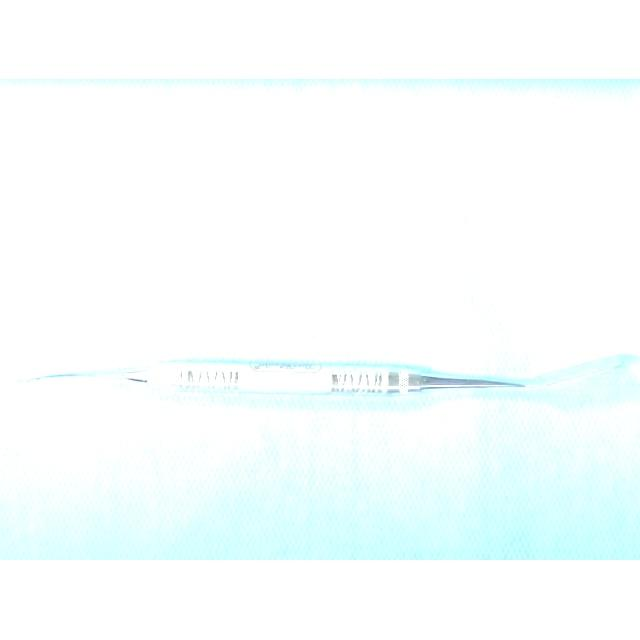elevador: (29, 354, 631, 404)
